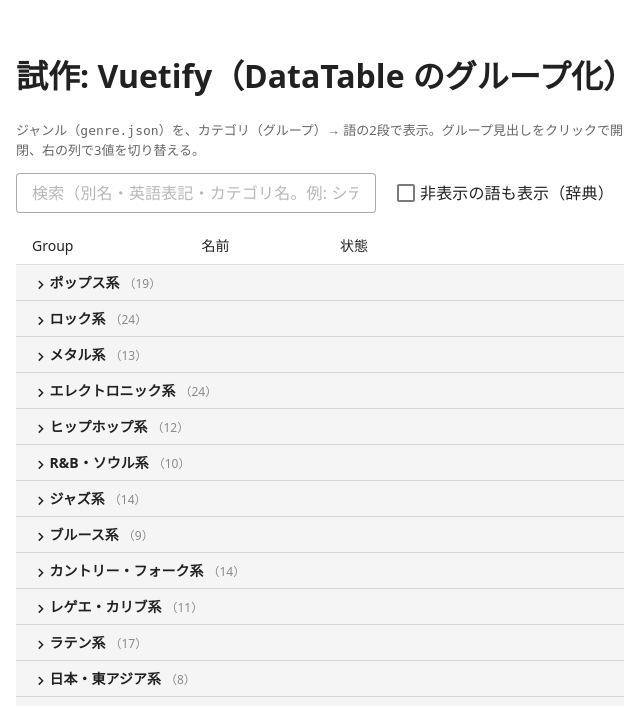
Test: Vuetify の DataTable（グループ化） › 3値を切り替えると、同じ語の別グループの出現にも反映される
The image size is (641, 706).
Type "シティポップ" into the field with placeholder "検索（別名・英語表記・カテゴリ名。例: シティポップ）". click: {"x": 190, "y": 193}
box: [16,173,364,213]
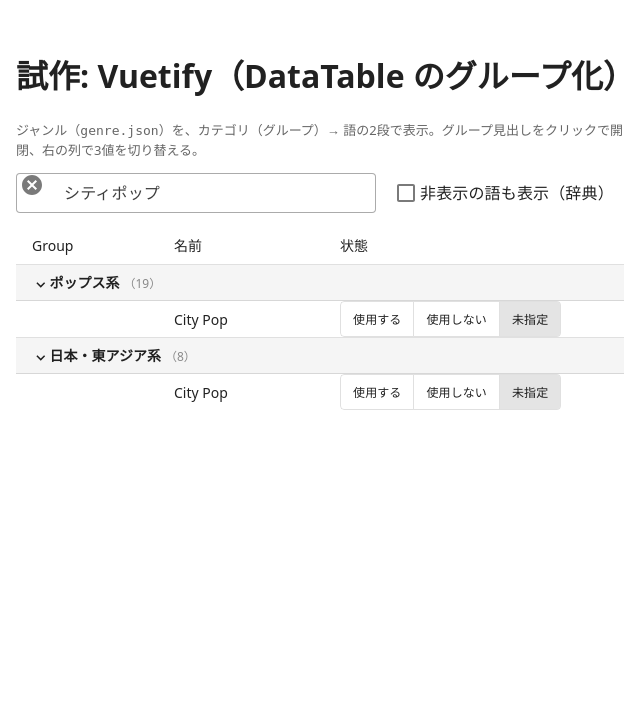
Click the 1st button "使用する". click: {"x": 377, "y": 319}
box: [340,301,414,337]
(page scrolled)
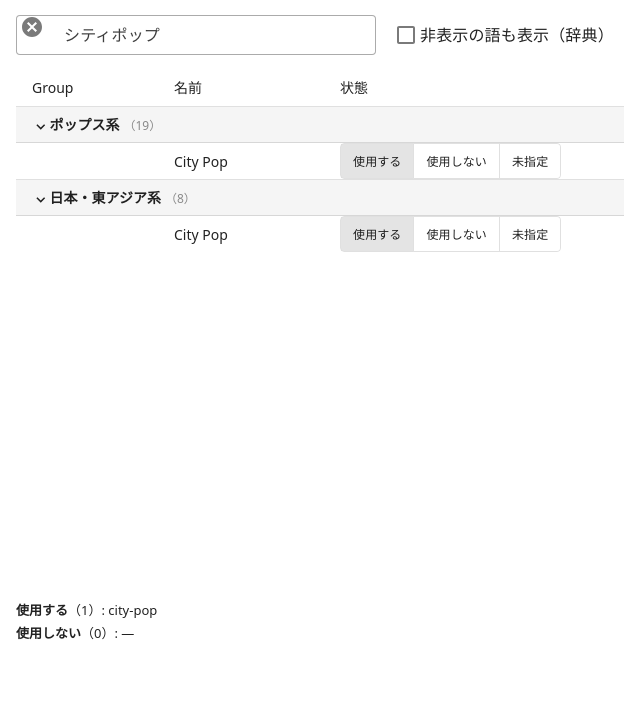
Expected: the 2nd button "使用する" is shown, [340,216,414,252]
Expected: the element with test id "summary" shows "city-pop", [68,601,157,619]
